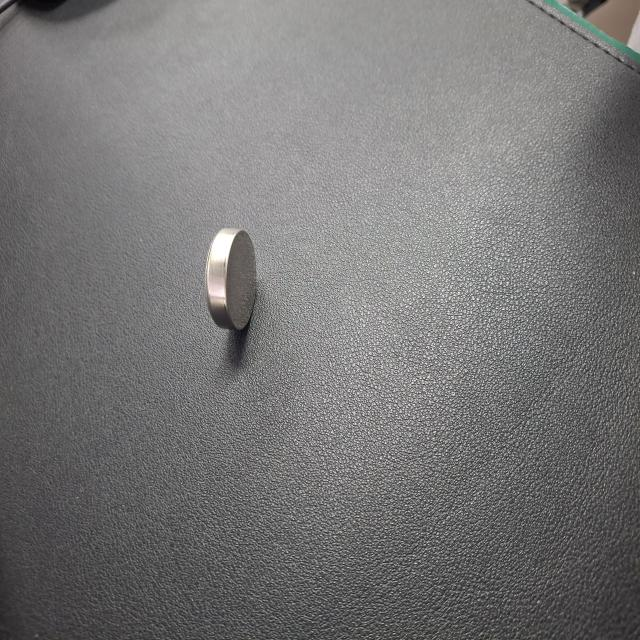COIN: (172, 512, 248, 579)
